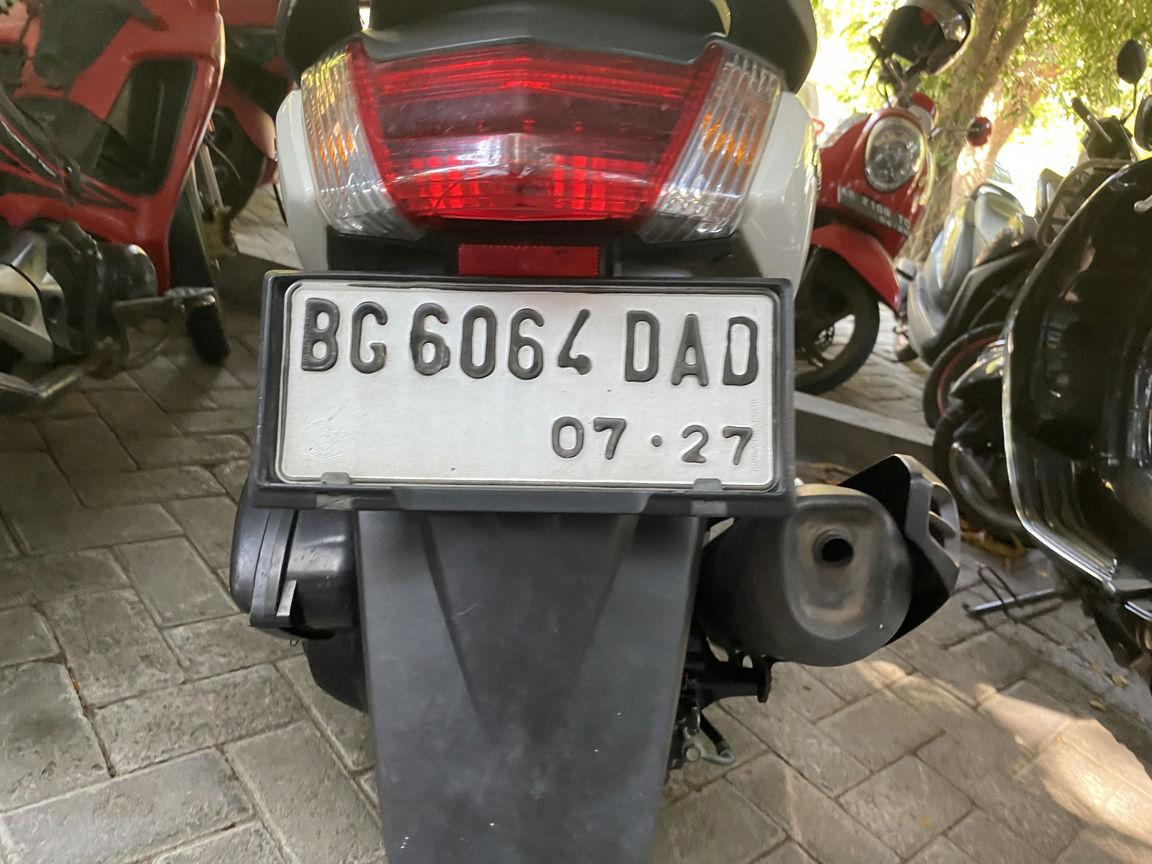plat: (279, 280, 777, 492)
